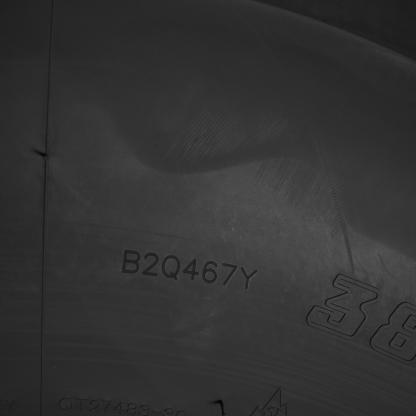ocr: (122, 247, 258, 291)
